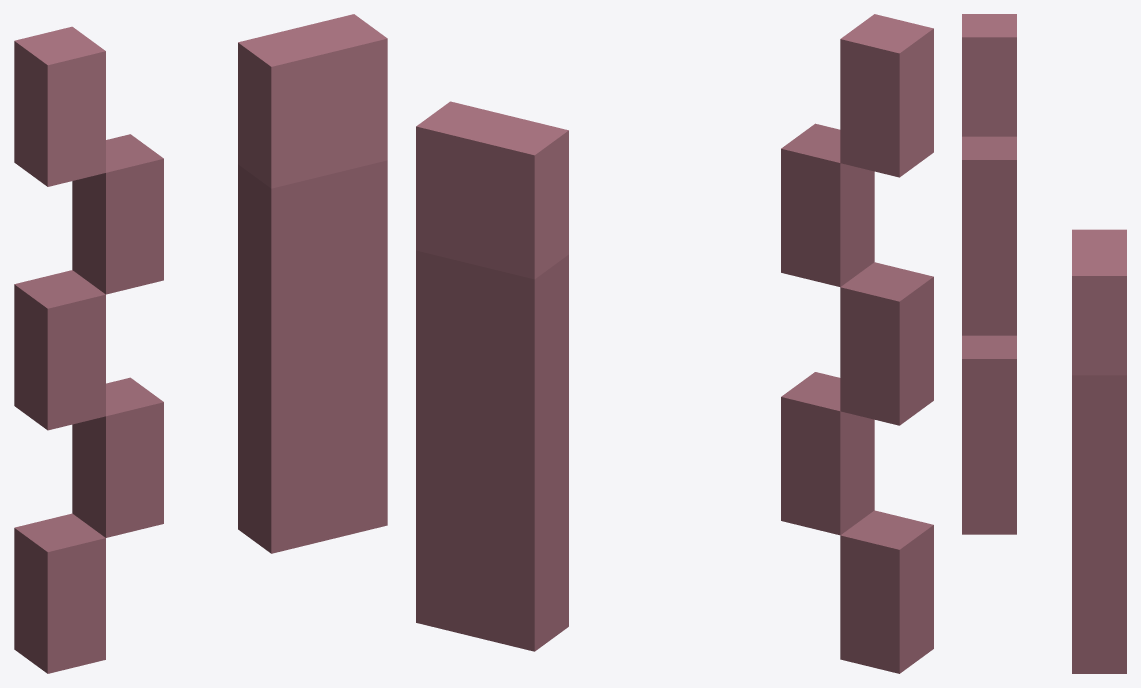
File: alga_roja_02.glb
3 renders of one model, left to right at view 1: azimuth 30°, elevation 25°; view 2: azimuth 150°, elevation 25°; view 3: azimuth 270°, elevation 25°, orthographic. The views are drawn at different scales.
Parts seen in each view (by area): view 1: alga_roja_02; view 2: alga_roja_02; view 3: alga_roja_02.
Part boxes in pixels (<box>): alga_roja_02: <box>14,14,387,673</box>; alga_roja_02: <box>416,14,933,673</box>; alga_roja_02: <box>962,14,1126,673</box>.
Size of the model in its own units: 0.7 by 1 by 0.3.
